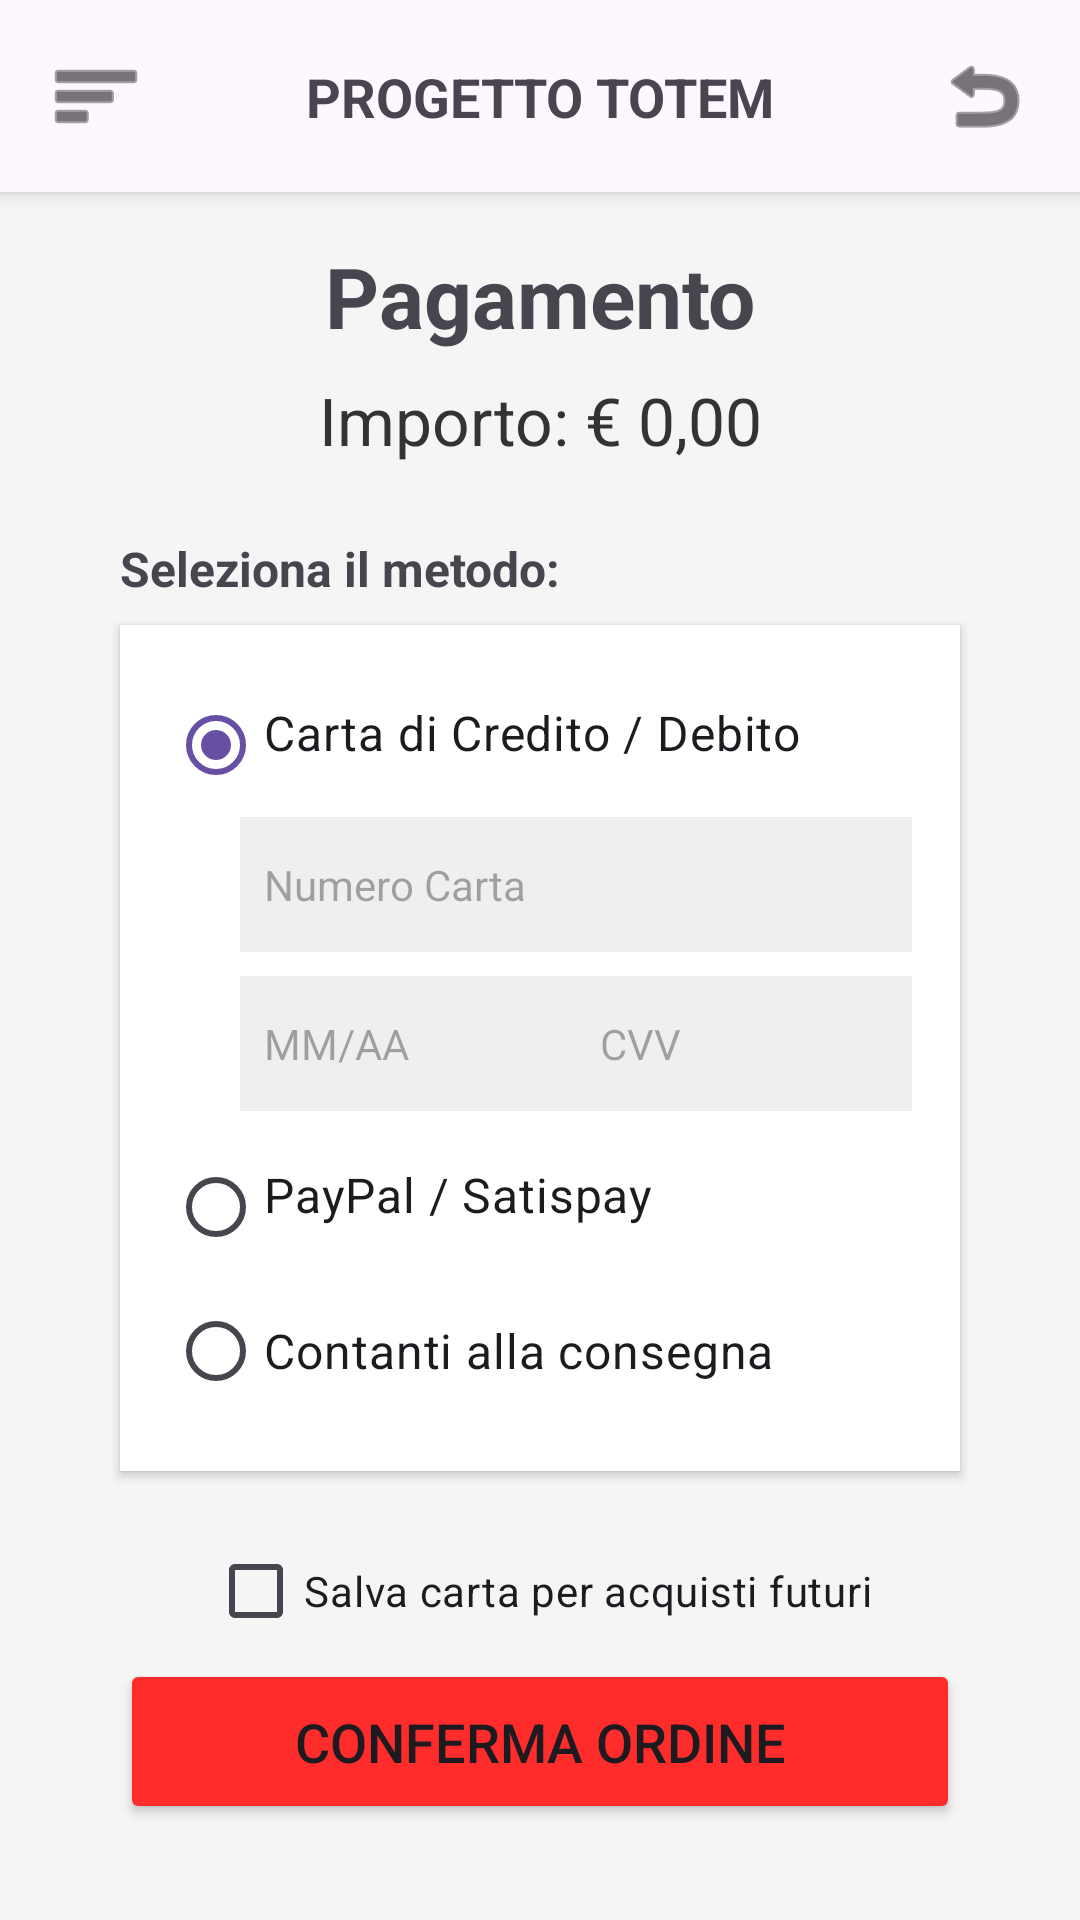

Named icons in this screenshot (1080×1920) and their centers, point (x, y):
Indietro: point (985, 96)
Menu: point (96, 96)
